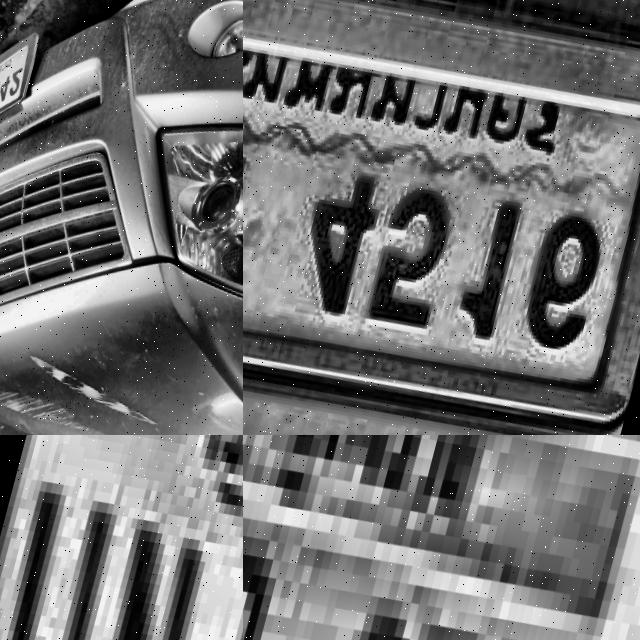license-plate: (243, 0, 640, 435), (243, 435, 640, 640), (0, 435, 243, 640), (0, 8, 44, 187)
